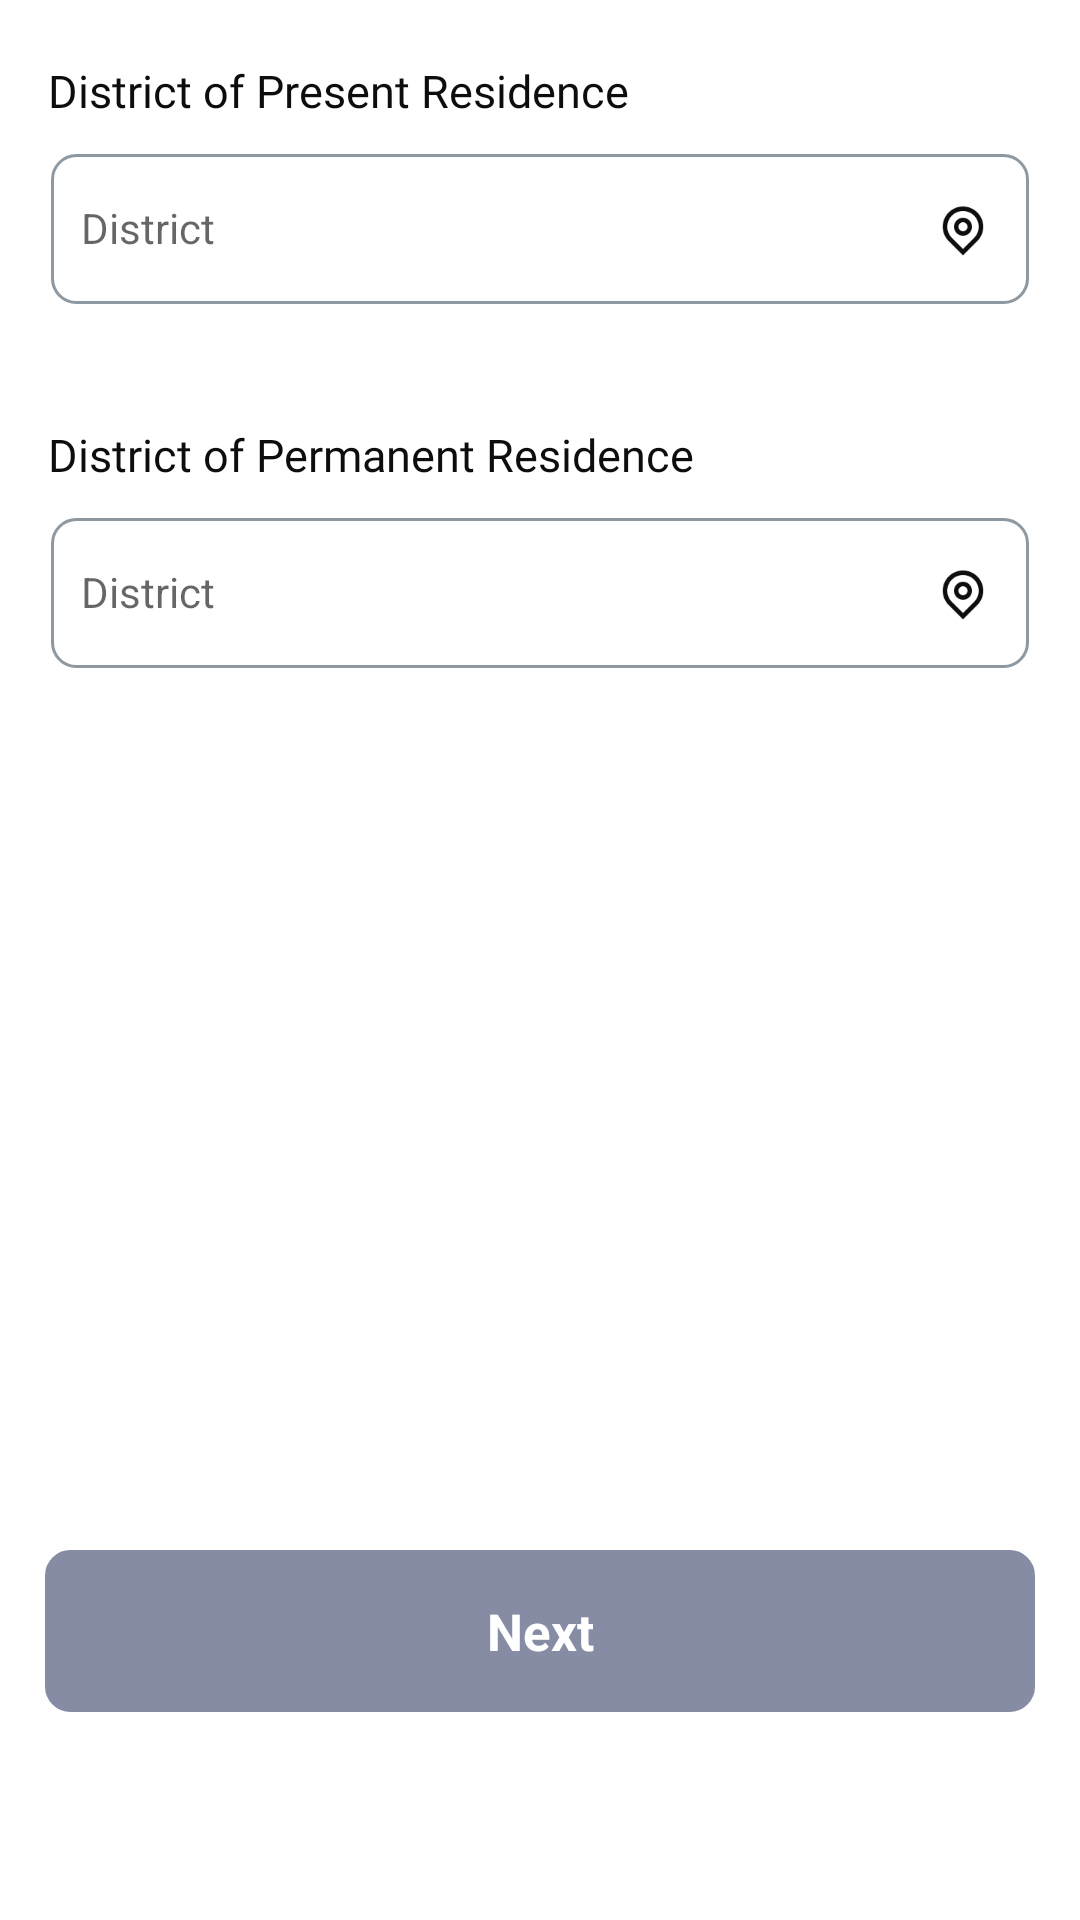

Point at icon controls on the screen. Image size 1080x1920, points as [x,y].
location select: [963,230], [963,594]
